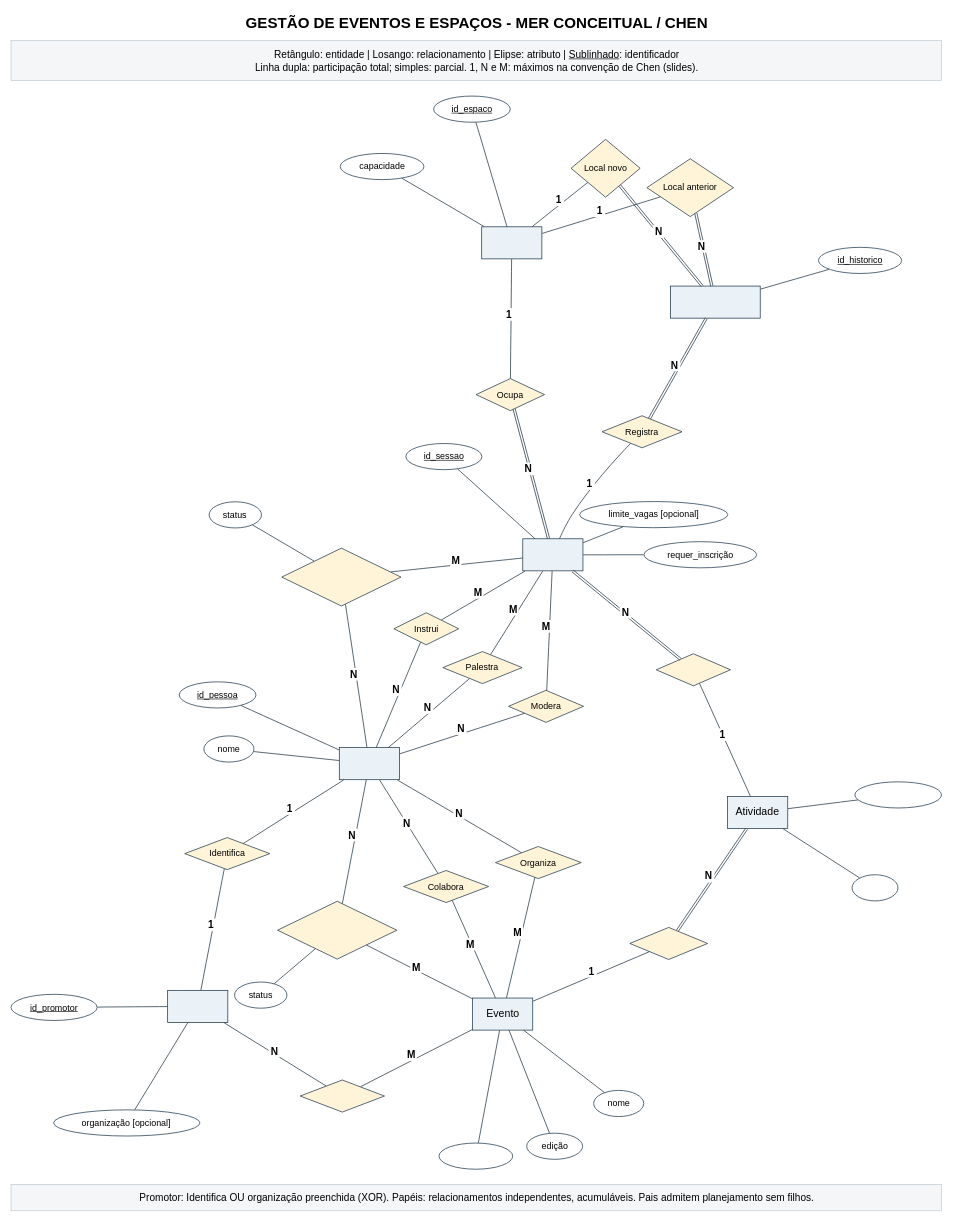
This 953x1222 diagram has some shape labels left out. Here are the shapes that lost their labels. From the top down, the box of each, then its label:
(481, 226, 542, 259): Espaço
(670, 285, 760, 318): HistóricoSessão
(522, 538, 583, 571): Sessão
(281, 547, 401, 606): Inscreve na sessão
(656, 653, 731, 686): Realiza
(339, 747, 400, 780): Pessoa
(854, 781, 942, 808): id_atividade
(851, 874, 898, 901): título
(277, 901, 397, 959): Inscreve no evento
(629, 927, 708, 960): Oferece
(167, 990, 228, 1022): Promotor
(299, 1079, 385, 1112): Promove
(438, 1142, 513, 1169): id_evento
